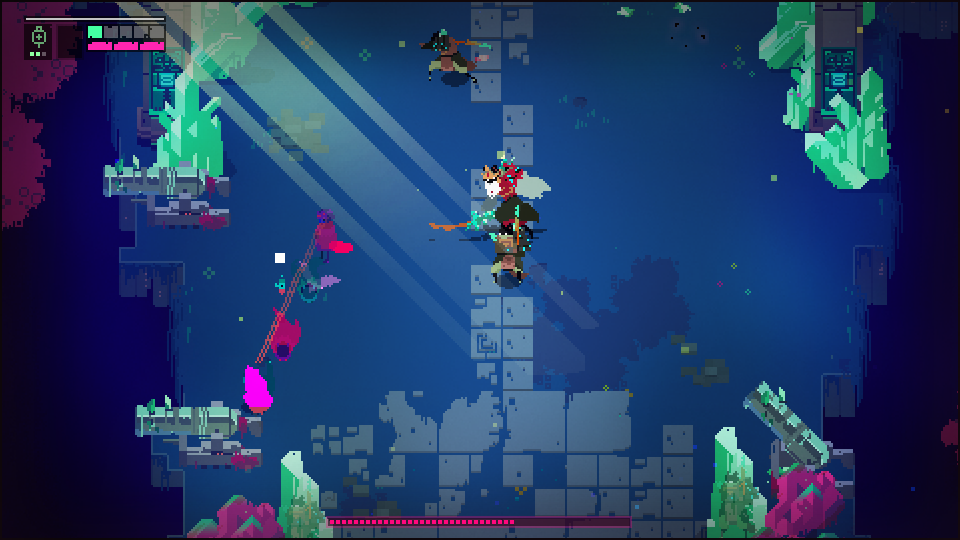hanged_man: (454, 154, 555, 255)
player: (237, 362, 278, 418)
